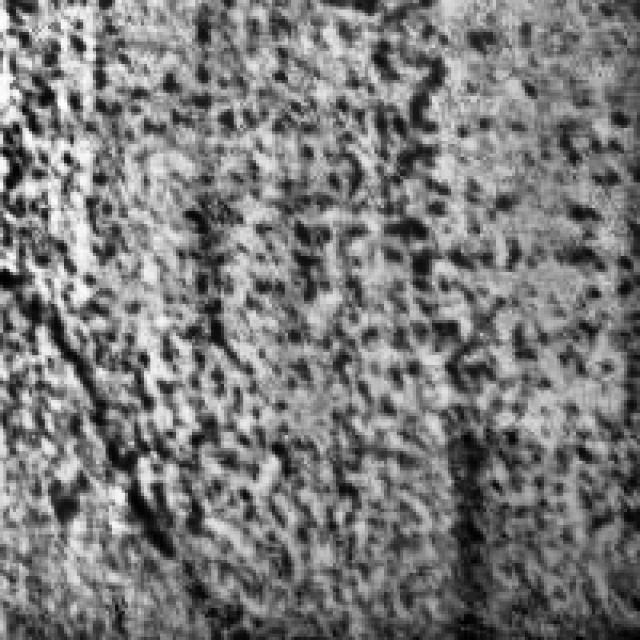Rolled_in_Scale: (22, 38, 621, 628)
